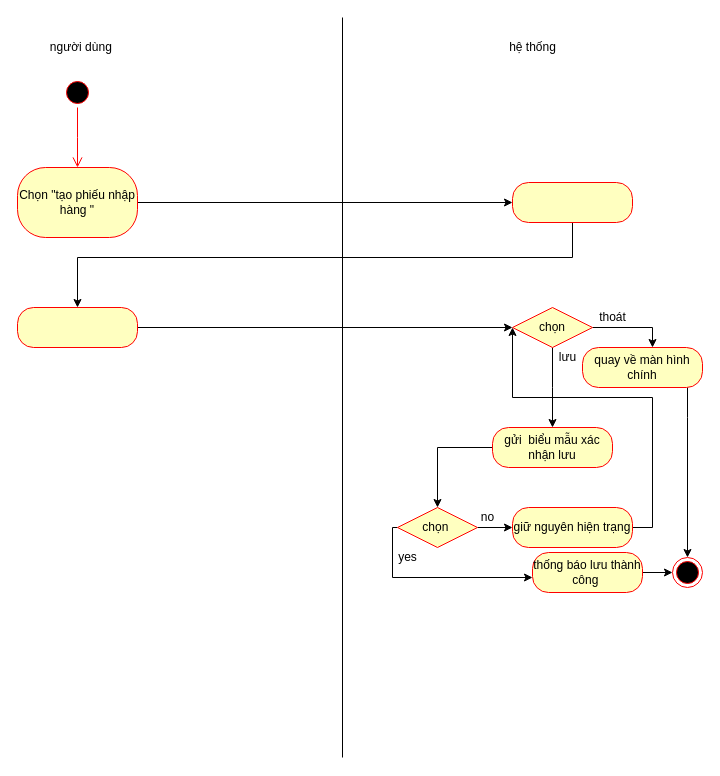
Image size: 720x776. Some labels were removed from this diagram. Here are the shapes that lost their labels. From the top down, the box of each, then its label:
(512, 182, 632, 222): hiện thị form phiếu nhậu hàng
(16, 306, 138, 348): Nhập thông thông tin vào phiếu nhập hàng
